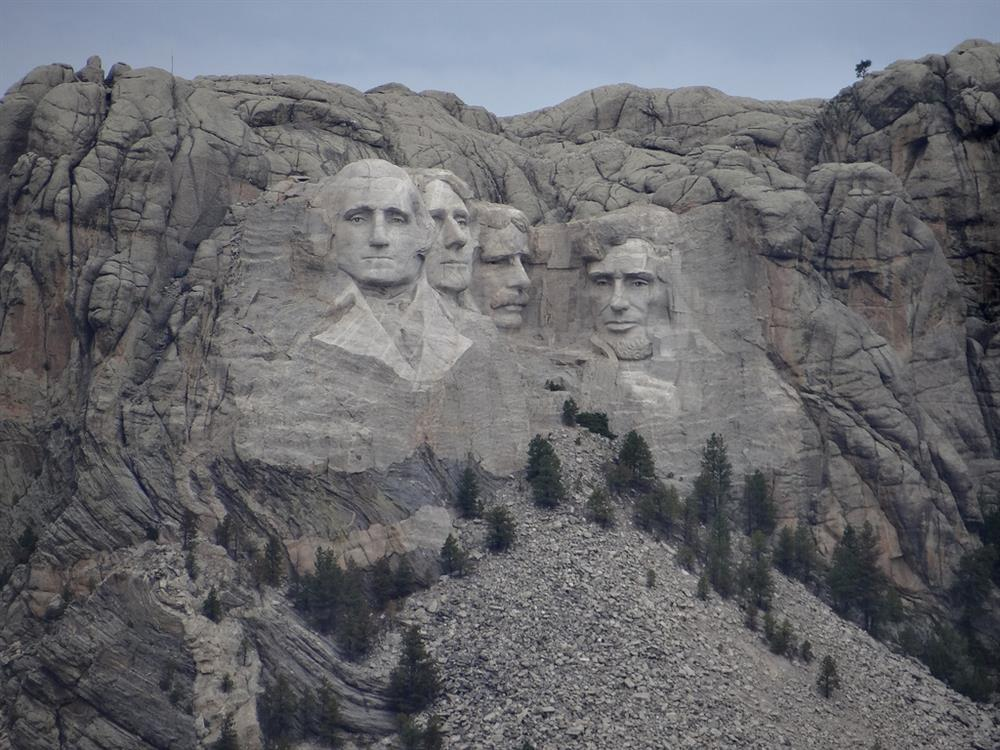Mount_Rushmore: (317, 151, 682, 368)
